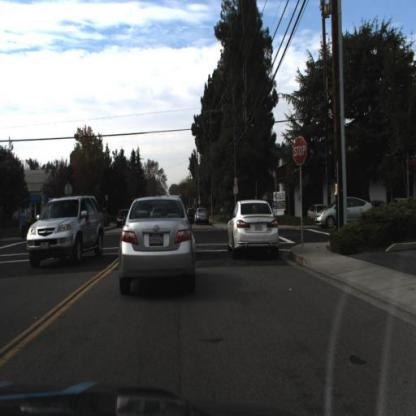car: (119, 192, 201, 293), (26, 192, 105, 272), (27, 192, 106, 267), (227, 199, 280, 259), (315, 196, 379, 228), (306, 198, 330, 226), (193, 204, 211, 230), (116, 206, 129, 229), (118, 209, 132, 229)
pedestrian: (27, 205, 33, 239), (22, 210, 27, 241)
